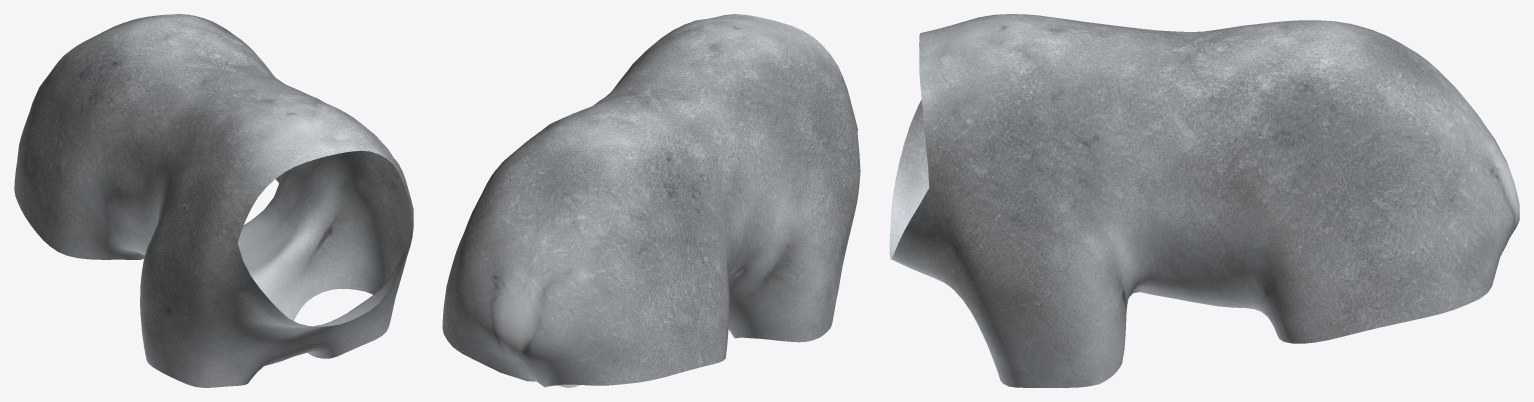
The model's file is Polar_Bear_body.obj.
3 views of the same model, side by side, from view 1: azimuth 30°, elevation 25°; view 2: azimuth 150°, elevation 25°; view 3: azimuth 270°, elevation 25° (orthographic). The views are drawn at different scales.
Visible parts, largest first — view 1: Polar_Bear_Quad; view 2: Polar_Bear_Quad; view 3: Polar_Bear_Quad.
Part boxes in pixels (<box>): Polar_Bear_Quad: <box>14,14,413,387</box>; Polar_Bear_Quad: <box>442,14,860,387</box>; Polar_Bear_Quad: <box>889,14,1519,387</box>.
Bounding box in the file's own units: 1.02 × 1.09 × 1.91.
